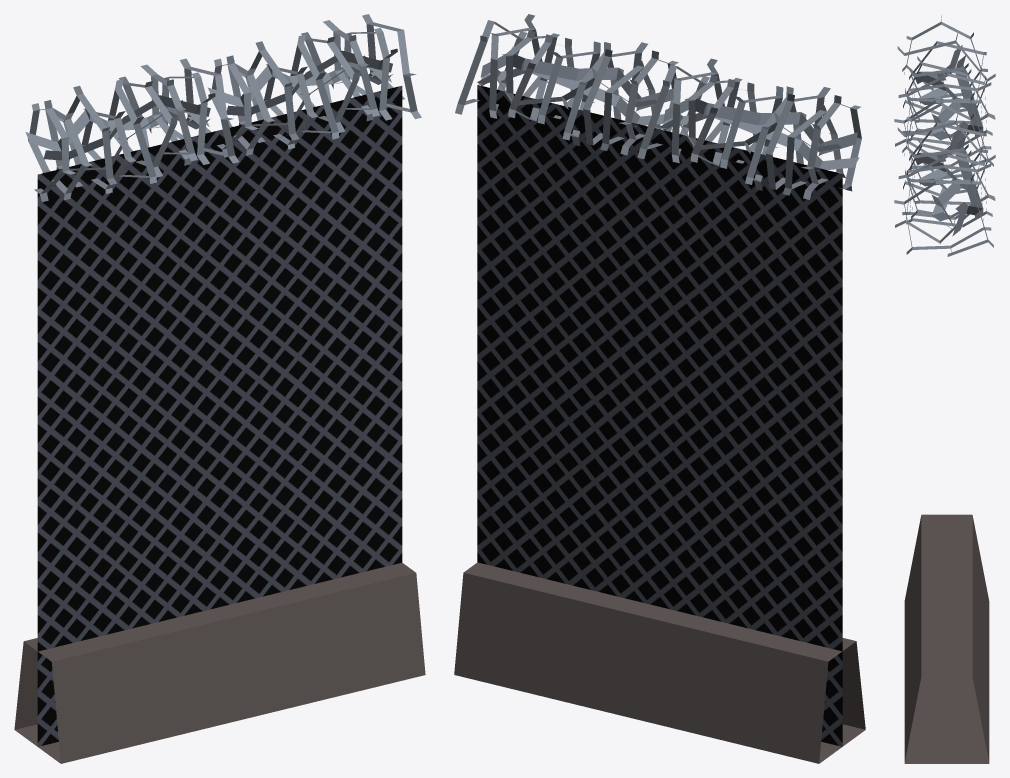
File: fence_2.glb
3 views of the same model, side by side, from view 1: azimuth 30°, elevation 25°; view 2: azimuth 150°, elevation 25°; view 3: azimuth 270°, elevation 25° (orthographic). The views are drawn at different scales.
Visible parts, largest first — view 1: Cube.009; view 2: Cube.009; view 3: Cube.009.
Part boxes in pixels (x1=…): Cube.009: x1=14, y1=14, x2=425, y2=763; Cube.009: x1=454, y1=14, x2=865, y2=763; Cube.009: x1=894, y1=15, x2=995, y2=763.
Size of the model in its own units: 4.08 by 6.78 by 1.06.
3 materials, 1 textured.
